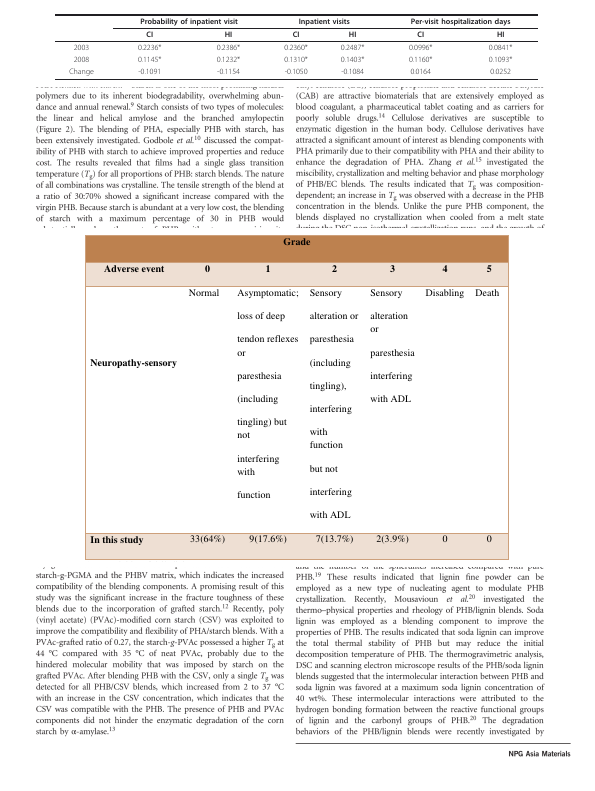bordered: (84, 234, 508, 559)
borderless: (55, 13, 538, 79)
cell: (236, 286, 300, 501), (309, 286, 359, 521), (369, 286, 416, 405), (89, 355, 178, 369), (410, 17, 511, 26), (139, 17, 239, 26), (103, 261, 165, 275), (89, 532, 145, 545), (425, 286, 465, 299), (248, 532, 288, 545), (315, 532, 354, 545), (189, 532, 226, 545), (298, 17, 351, 26), (375, 532, 410, 545), (188, 286, 220, 299), (282, 234, 311, 248), (474, 286, 500, 299), (68, 67, 95, 77), (283, 43, 309, 53), (283, 55, 309, 65), (137, 43, 162, 53), (216, 43, 241, 53), (340, 43, 365, 53), (408, 43, 433, 53), (488, 43, 513, 53), (137, 55, 162, 65), (216, 55, 241, 65), (340, 55, 365, 65), (408, 55, 433, 65), (488, 55, 513, 65), (137, 67, 162, 77), (216, 67, 241, 77), (340, 67, 365, 77), (284, 67, 308, 77), (409, 67, 432, 77), (489, 67, 512, 77), (73, 43, 90, 53), (73, 55, 90, 65), (204, 261, 211, 275), (265, 261, 272, 275), (331, 261, 338, 275), (389, 261, 396, 275), (441, 261, 448, 275), (486, 261, 493, 275), (441, 532, 448, 545), (486, 532, 493, 545), (145, 30, 154, 40), (224, 30, 233, 40), (348, 30, 357, 40), (416, 30, 425, 40), (496, 30, 505, 40), (292, 30, 300, 40)
